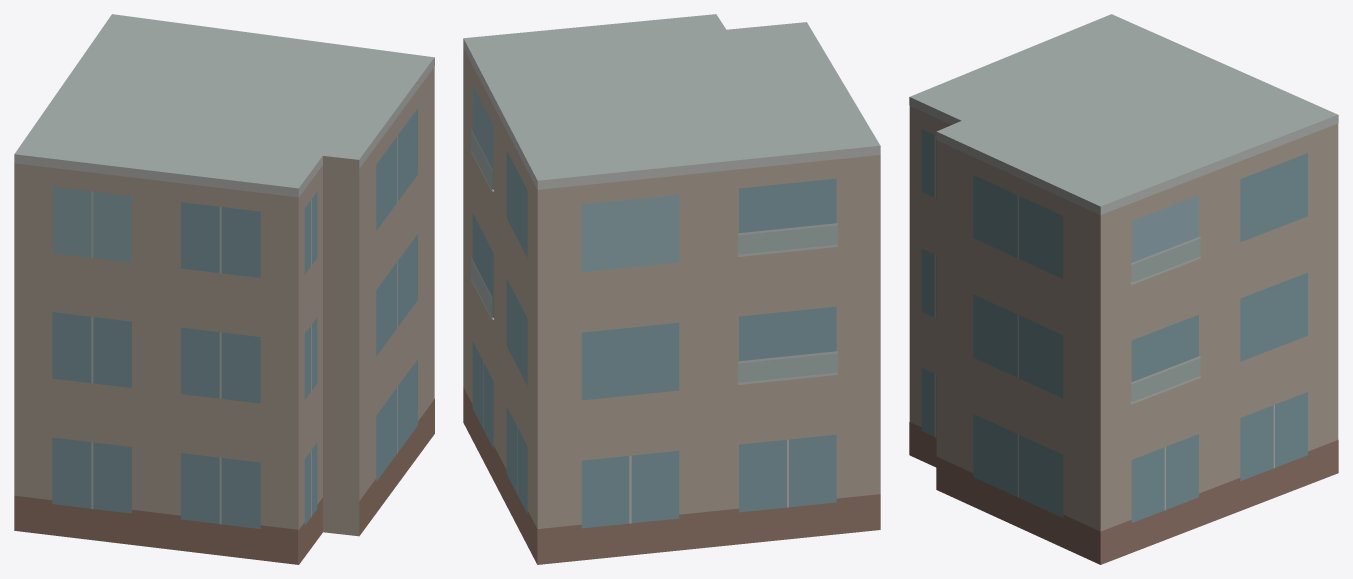
File: survey-upis-32898157.glb
The picture shows the model from 3 angles, left to right: view 1: azimuth 30°, elevation 25°; view 2: azimuth 150°, elevation 25°; view 3: azimuth 270°, elevation 25°; orthographic projection. The views are drawn at different scales.
Visible parts, largest first — view 1: survey-upis-32898157.tmp; view 2: survey-upis-32898157.tmp; view 3: survey-upis-32898157.tmp.
Part boxes in pixels (left/top/right/bottom): survey-upis-32898157.tmp: left=14, top=14, right=434, bottom=564; survey-upis-32898157.tmp: left=463, top=14, right=880, bottom=564; survey-upis-32898157.tmp: left=909, top=14, right=1338, bottom=564.
Bounding box in the file's own units: 11.76 × 10.2 × 11.08.
